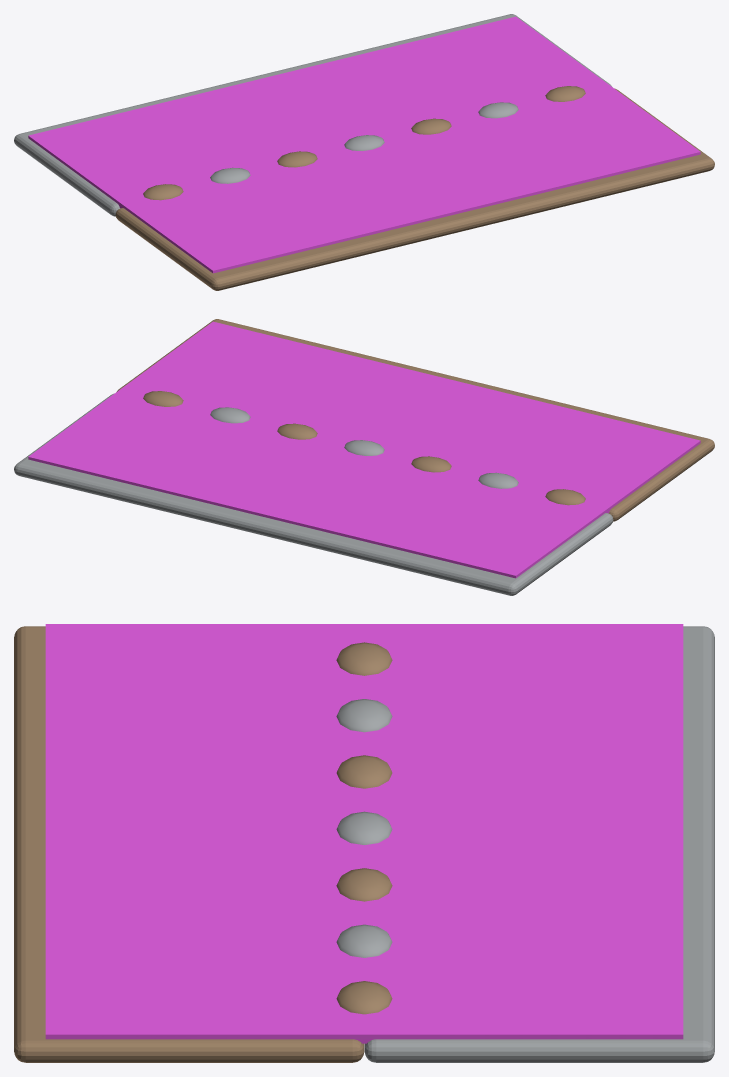
The picture shows the model from 3 angles, top to bottom: view 1: azimuth 30°, elevation 25°; view 2: azimuth 150°, elevation 25°; view 3: azimuth 270°, elevation 25°; orthographic projection. The views are drawn at different scales.
Visible parts, largest first — view 1: NAV_MASK_TRANSITION_DIRT_ROCK, LOD0_TRANSITION_DIRT_ROCK_A, LOD0_TRANSITION_DIRT_ROCK_B, LOD0_TRANSITION_DIRT_ROCK_Blend_03, LOD0_TRANSITION_DIRT_ROCK_Blend_06, LOD0_TRANSITION_DIRT_ROCK_Blend_05, LOD0_TRANSITION_DIRT_ROCK_Blend_02, LOD0_TRANSITION_DIRT_ROCK_Blend_01, LOD0_TRANSITION_DIRT_ROCK_Blend_07, LOD0_TRANSITION_DIRT_ROCK_Blend_04; view 2: NAV_MASK_TRANSITION_DIRT_ROCK, LOD0_TRANSITION_DIRT_ROCK_B, LOD0_TRANSITION_DIRT_ROCK_A, LOD0_TRANSITION_DIRT_ROCK_Blend_03, LOD0_TRANSITION_DIRT_ROCK_Blend_06, LOD0_TRANSITION_DIRT_ROCK_Blend_05, LOD0_TRANSITION_DIRT_ROCK_Blend_02, LOD0_TRANSITION_DIRT_ROCK_Blend_01, LOD0_TRANSITION_DIRT_ROCK_Blend_07, LOD0_TRANSITION_DIRT_ROCK_Blend_04; view 3: NAV_MASK_TRANSITION_DIRT_ROCK, LOD0_TRANSITION_DIRT_ROCK_A, LOD0_TRANSITION_DIRT_ROCK_B, LOD0_TRANSITION_DIRT_ROCK_Blend_06, LOD0_TRANSITION_DIRT_ROCK_Blend_01, LOD0_TRANSITION_DIRT_ROCK_Blend_02, LOD0_TRANSITION_DIRT_ROCK_Blend_03, LOD0_TRANSITION_DIRT_ROCK_Blend_05, LOD0_TRANSITION_DIRT_ROCK_Blend_07, LOD0_TRANSITION_DIRT_ROCK_Blend_04.
Part boxes in pixels (x1,y1,x2,y2): NAV_MASK_TRANSITION_DIRT_ROCK: (28, 16, 700, 273); LOD0_TRANSITION_DIRT_ROCK_A: (115, 88, 714, 290); LOD0_TRANSITION_DIRT_ROCK_B: (14, 14, 611, 216); LOD0_TRANSITION_DIRT_ROCK_Blend_03: (277, 151, 317, 167); LOD0_TRANSITION_DIRT_ROCK_Blend_06: (478, 102, 518, 118); LOD0_TRANSITION_DIRT_ROCK_Blend_05: (411, 118, 451, 134); LOD0_TRANSITION_DIRT_ROCK_Blend_02: (210, 167, 250, 183); LOD0_TRANSITION_DIRT_ROCK_Blend_01: (143, 184, 183, 200); LOD0_TRANSITION_DIRT_ROCK_Blend_07: (545, 86, 585, 101); LOD0_TRANSITION_DIRT_ROCK_Blend_04: (344, 135, 384, 150); NAV_MASK_TRANSITION_DIRT_ROCK: (28, 321, 700, 578); LOD0_TRANSITION_DIRT_ROCK_B: (14, 393, 613, 595); LOD0_TRANSITION_DIRT_ROCK_A: (117, 319, 714, 521); LOD0_TRANSITION_DIRT_ROCK_Blend_03: (411, 456, 451, 472); LOD0_TRANSITION_DIRT_ROCK_Blend_06: (210, 407, 250, 423); LOD0_TRANSITION_DIRT_ROCK_Blend_05: (277, 423, 317, 439); LOD0_TRANSITION_DIRT_ROCK_Blend_02: (478, 472, 518, 488); LOD0_TRANSITION_DIRT_ROCK_Blend_01: (545, 489, 585, 505); LOD0_TRANSITION_DIRT_ROCK_Blend_07: (143, 391, 183, 406); LOD0_TRANSITION_DIRT_ROCK_Blend_04: (344, 440, 384, 455); NAV_MASK_TRANSITION_DIRT_ROCK: (45, 624, 683, 1043); LOD0_TRANSITION_DIRT_ROCK_A: (14, 626, 364, 1062); LOD0_TRANSITION_DIRT_ROCK_B: (364, 626, 714, 1062); LOD0_TRANSITION_DIRT_ROCK_Blend_06: (336, 924, 392, 957); LOD0_TRANSITION_DIRT_ROCK_Blend_01: (336, 642, 392, 675); LOD0_TRANSITION_DIRT_ROCK_Blend_02: (336, 699, 392, 732); LOD0_TRANSITION_DIRT_ROCK_Blend_03: (336, 755, 392, 788); LOD0_TRANSITION_DIRT_ROCK_Blend_05: (336, 868, 392, 901); LOD0_TRANSITION_DIRT_ROCK_Blend_07: (336, 981, 392, 1014); LOD0_TRANSITION_DIRT_ROCK_Blend_04: (336, 811, 392, 844).
Size of what is drawn, in the model's own units: 6 by 0.23 by 4.2.
